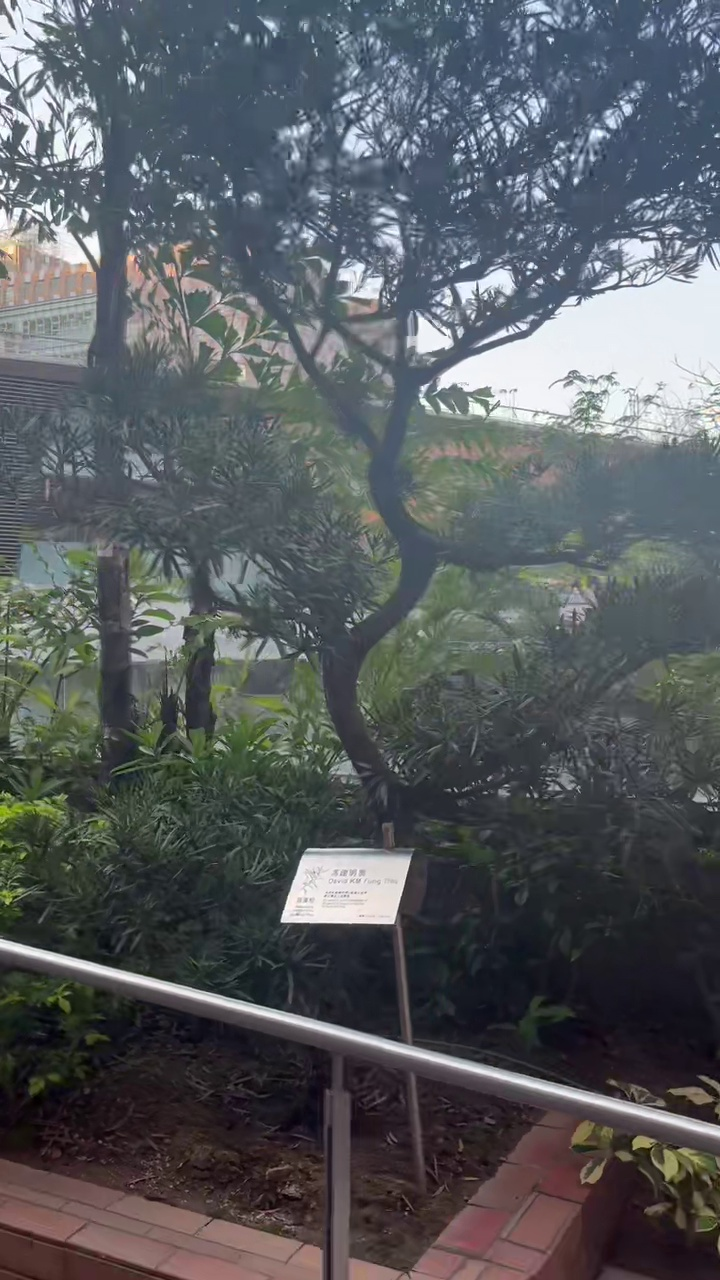Podocarpus macrophyllus: (172, 0, 719, 805)
